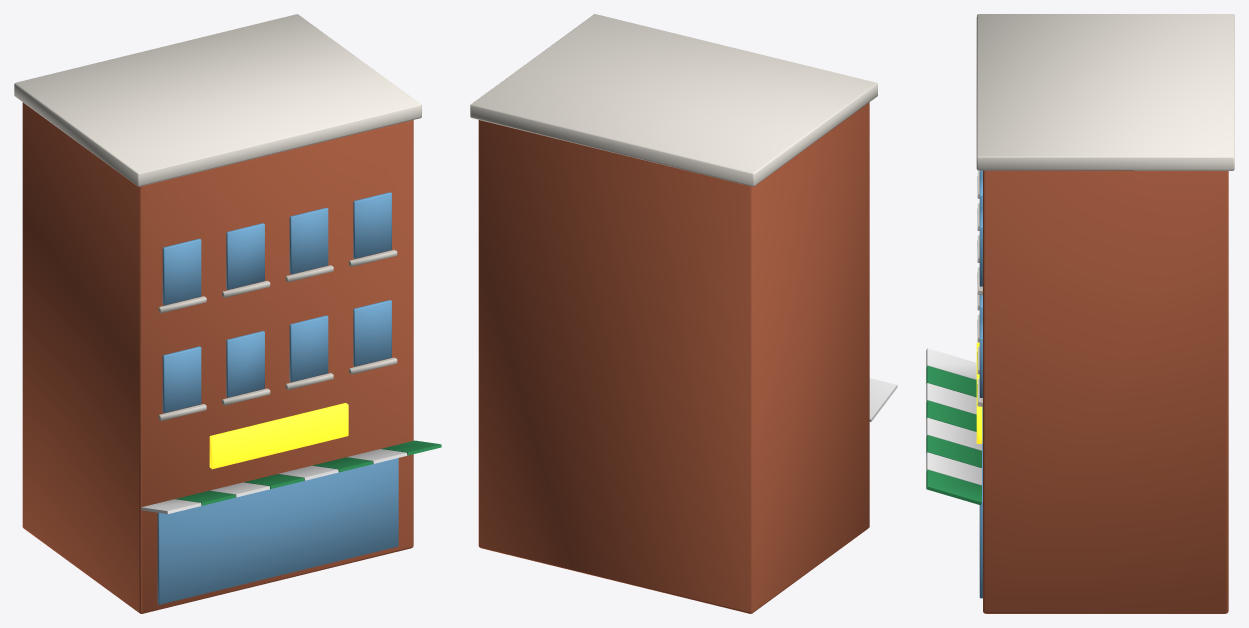
Rendered from ct_shop_lod.glb.
3 views of the same model, side by side, from view 1: azimuth 30°, elevation 25°; view 2: azimuth 150°, elevation 25°; view 3: azimuth 270°, elevation 25° (orthographic). The views are drawn at different scales.
Visible parts, largest first — view 1: ct_shop_lod; view 2: ct_shop_lod; view 3: ct_shop_lod.
Boxes of the visible parts, left/top/right/bottom form: ct_shop_lod: left=14, top=14, right=441, bottom=613; ct_shop_lod: left=470, top=14, right=897, bottom=613; ct_shop_lod: left=926, top=14, right=1234, bottom=613.
Bounding box in the file's own units: 8.29 × 12.39 × 7.53.
